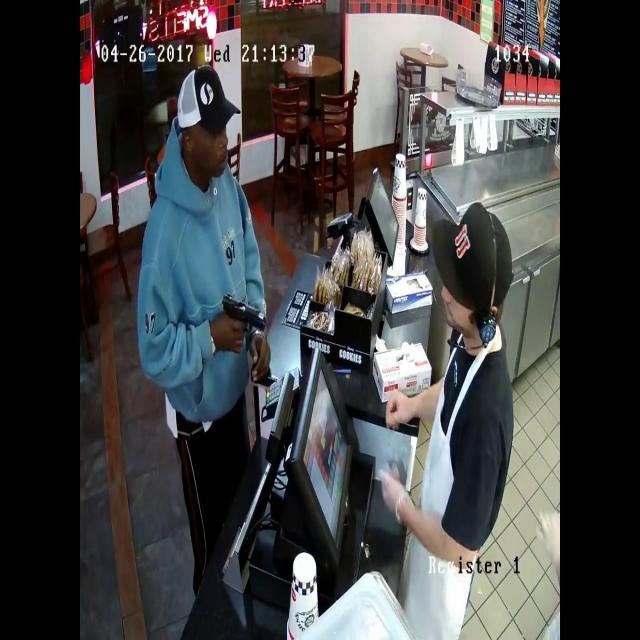weapon: (214, 278, 272, 355)
